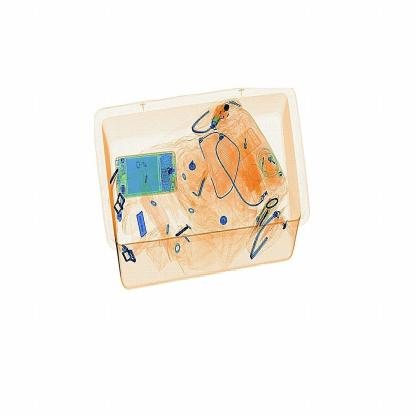wrench: (194, 151, 216, 202)
